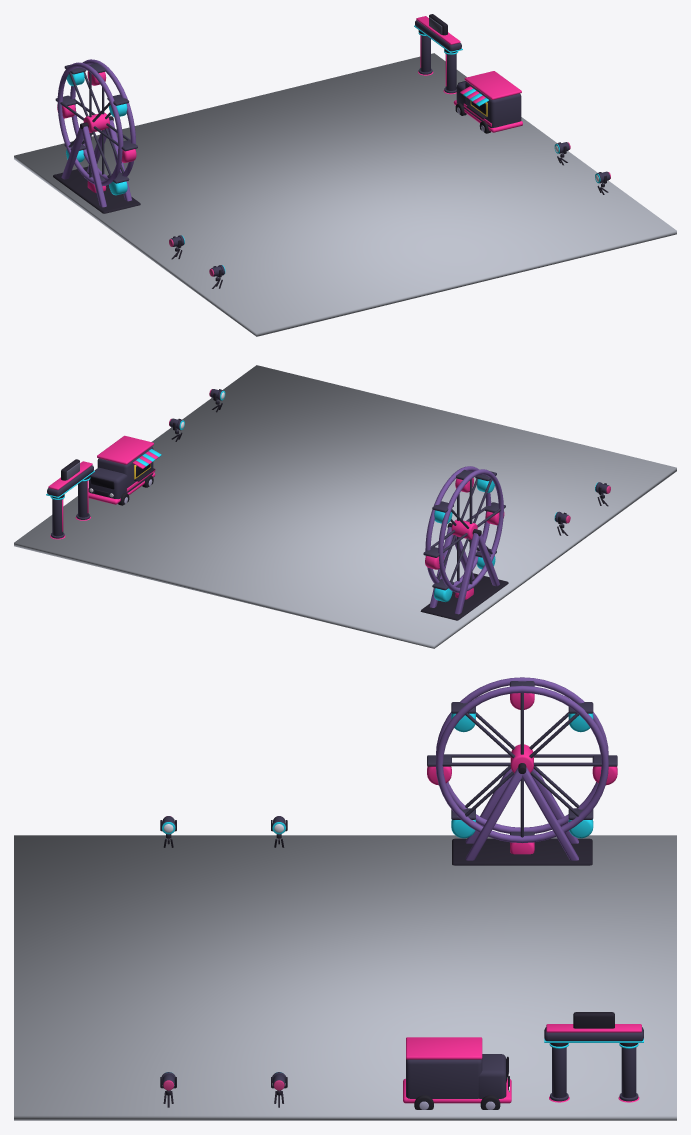
Rendered from Estrelato.fbx.
3 views of the same model, one above another, from view 1: azimuth 30°, elevation 25°; view 2: azimuth 150°, elevation 25°; view 3: azimuth 270°, elevation 25° (orthographic). The views are drawn at different scales.
Parts seen in each view (by area): view 1: Root, Body, Purple, Dark, Magenta, Neon_Magenta, Neon_Cyan; view 2: Root, Body, Purple, Dark, Magenta, Neon_Magenta, Neon_Cyan; view 3: Root, Body, Purple, Dark, Neon_Magenta, Magenta, Neon_Cyan.
Part boxes in pixels (x1=…): Root: x1=14, y1=53, x2=676, y2=336; Body: x1=55, y1=20, x2=610, y2=276; Purple: x1=57, y1=59, x2=135, y2=207; Dark: x1=53, y1=14, x2=608, y2=288; Magenta: x1=83, y1=71, x2=521, y2=132; Neon_Magenta: x1=57, y1=16, x2=522, y2=192; Neon_Cyan: x1=66, y1=25, x2=600, y2=273; Root: x1=14, y1=365, x2=676, y2=648; Body: x1=47, y1=389, x2=609, y2=590; Purple: x1=425, y1=466, x2=503, y2=614; Dark: x1=52, y1=389, x2=608, y2=620; Magenta: x1=50, y1=435, x2=477, y2=539; Neon_Magenta: x1=48, y1=461, x2=504, y2=599; Neon_Cyan: x1=46, y1=390, x2=597, y2=601; Root: x1=14, y1=835, x2=676, y2=1120; Body: x1=161, y1=681, x2=643, y2=1101; Purple: x1=436, y1=677, x2=608, y2=860; Dark: x1=160, y1=763, x2=637, y2=1107; Neon_Magenta: x1=403, y1=693, x2=641, y2=1103; Magenta: x1=406, y1=744, x2=639, y2=1102; Neon_Cyan: x1=162, y1=713, x2=643, y2=1072.
Size of the model in its own units: 120 by 35.37 by 120.
